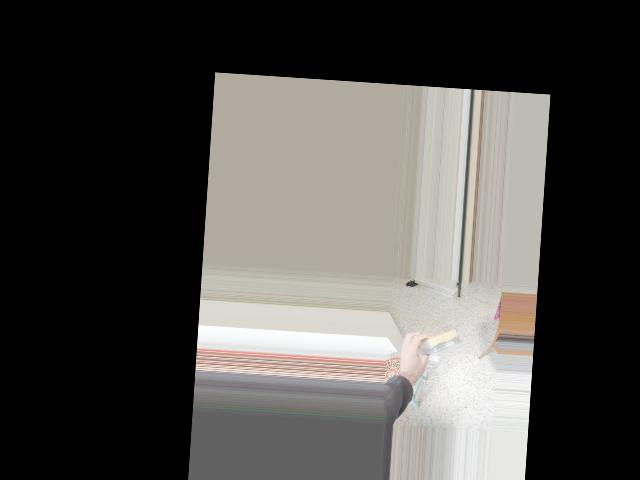cheese: (395, 310, 465, 368)
